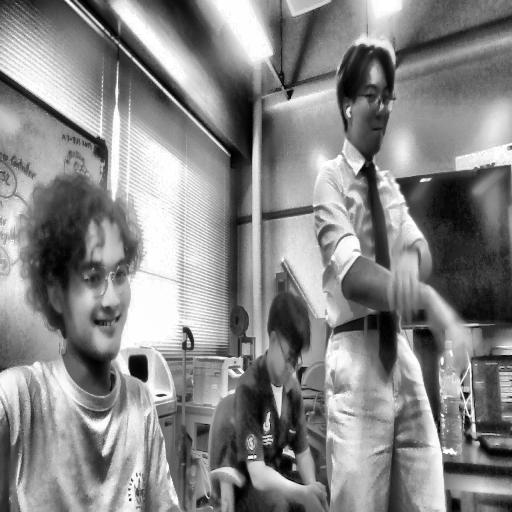Daifuku: (24, 173, 145, 362)
Not Daifuku: (335, 42, 397, 157), (272, 286, 310, 382)
